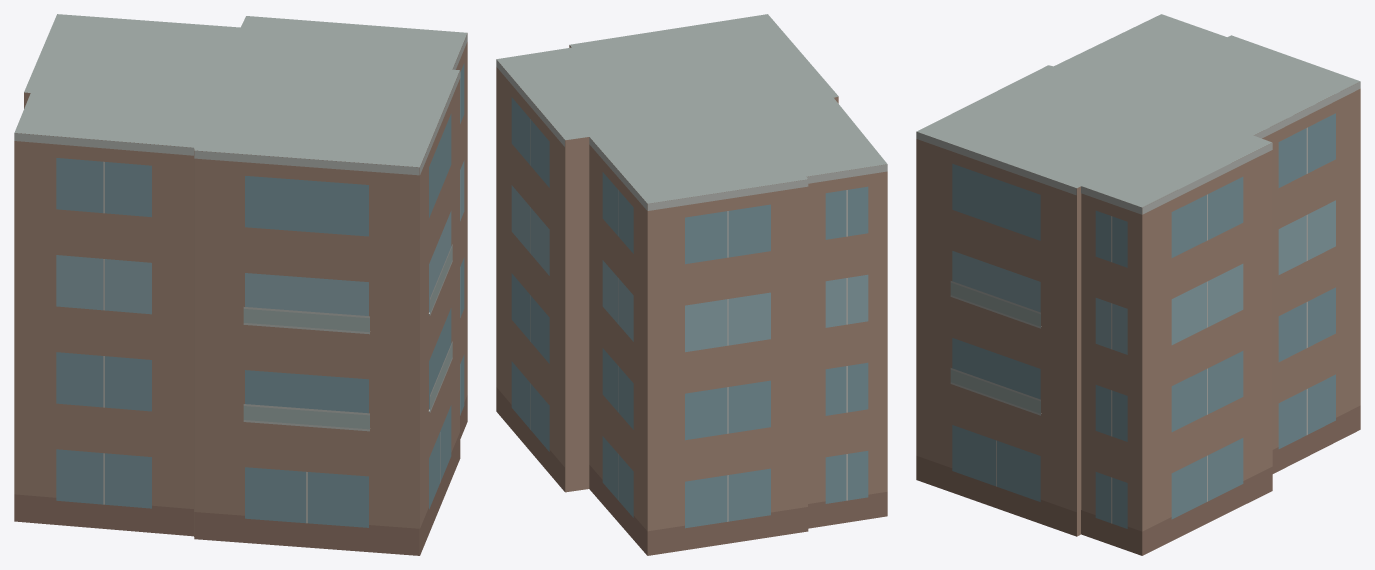
File: survey-upis-32671688.glb
3 views of the same model, side by side, from view 1: azimuth 30°, elevation 25°; view 2: azimuth 150°, elevation 25°; view 3: azimuth 270°, elevation 25° (orthographic). The views are drawn at different scales.
Parts seen in each view (by area): view 1: survey-upis-32671688.tmp; view 2: survey-upis-32671688.tmp; view 3: survey-upis-32671688.tmp.
Boxes of the visible parts, x1,y1,x2,y2 form: survey-upis-32671688.tmp: (14, 14, 467, 555); survey-upis-32671688.tmp: (496, 14, 887, 555); survey-upis-32671688.tmp: (916, 14, 1360, 555).
Size of the model in its own units: 13.95 by 11.7 by 13.53.
